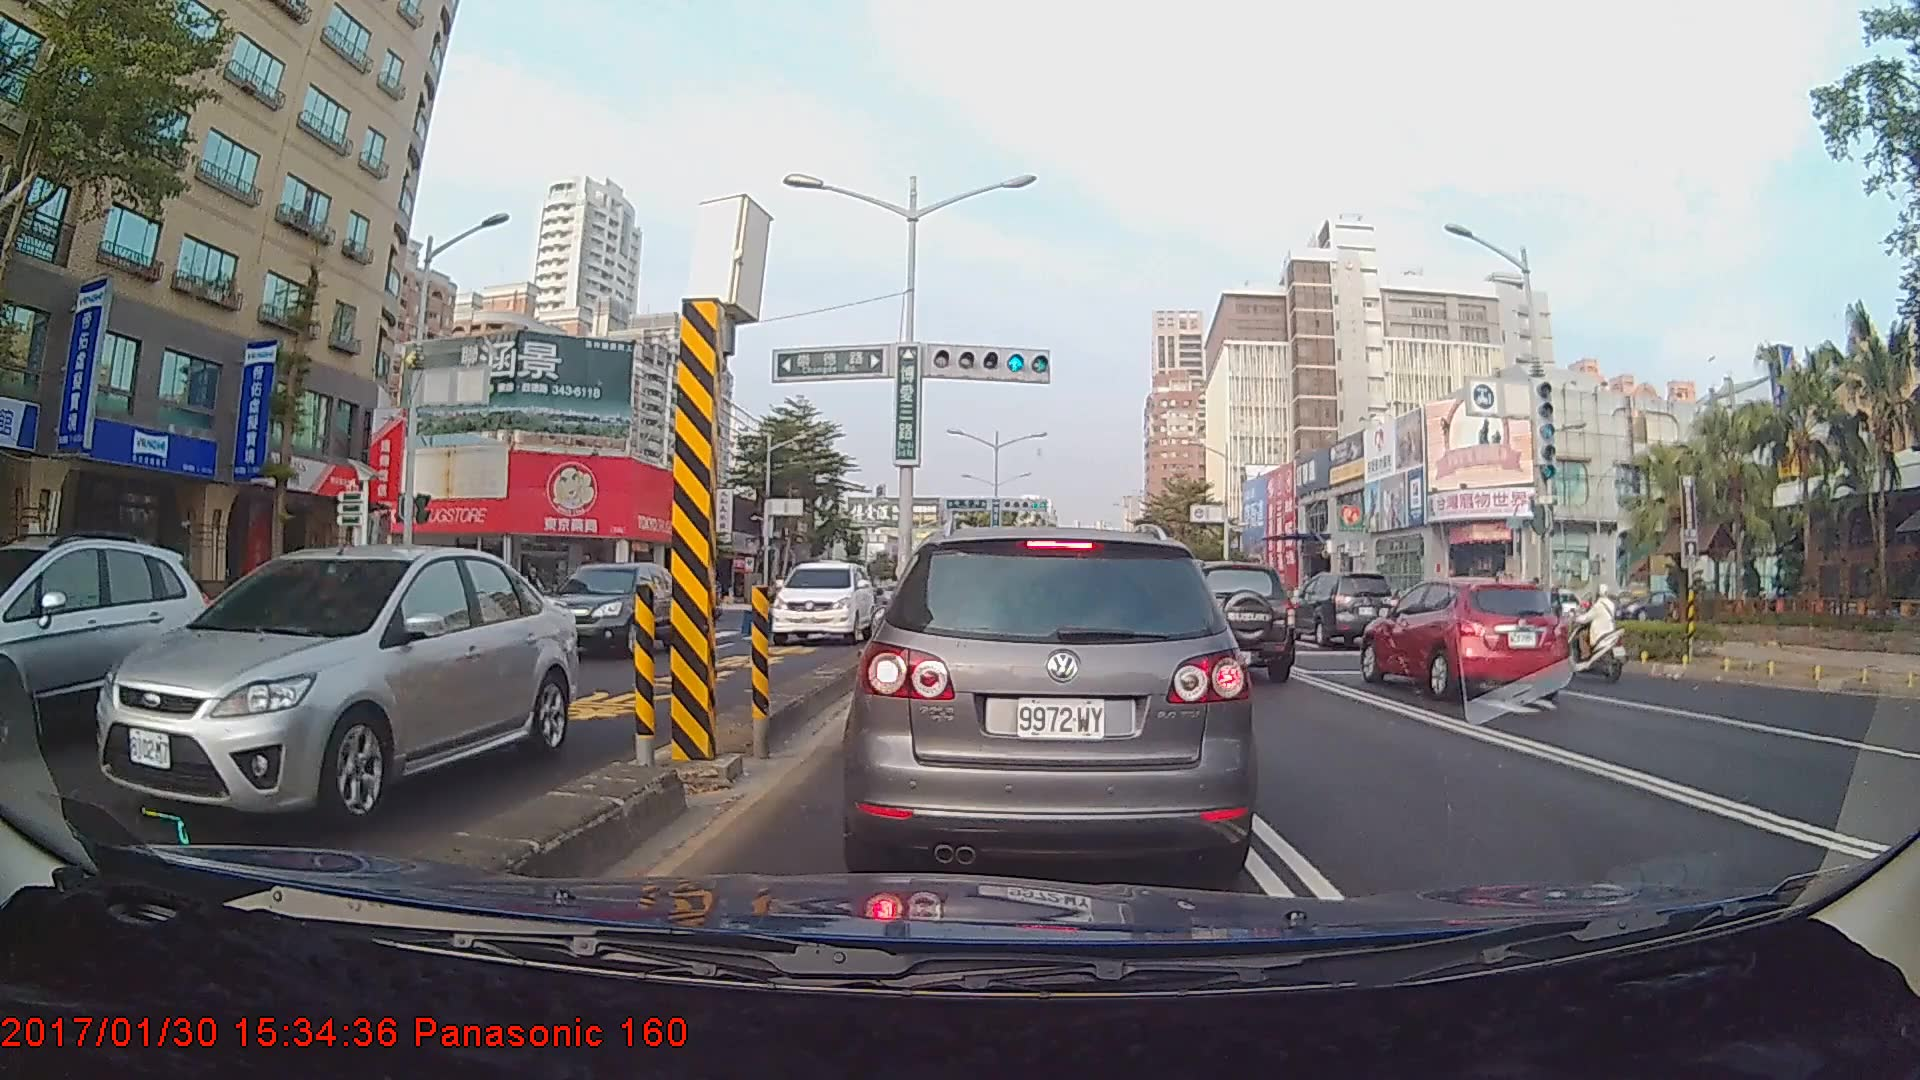rider: (1553, 586, 1623, 689)
vehicle: (854, 521, 1249, 883), (93, 542, 576, 826), (0, 532, 213, 764), (1361, 577, 1570, 701), (1157, 559, 1299, 684), (524, 560, 686, 661), (771, 561, 876, 646), (1281, 571, 1395, 648)
